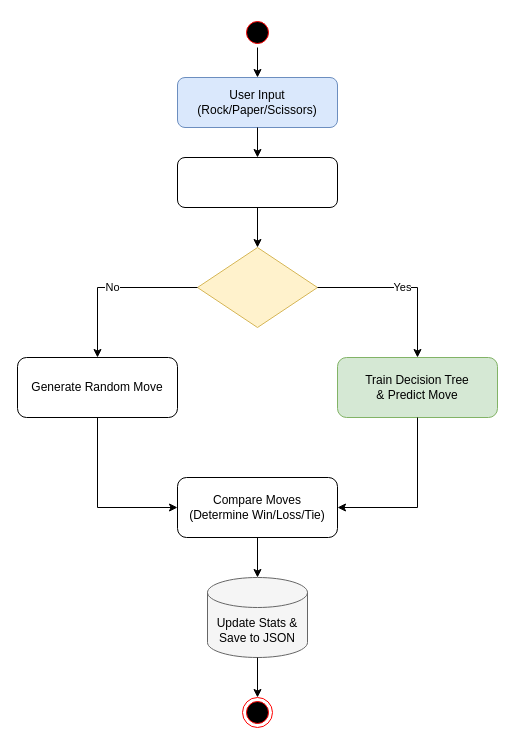
This 515x745 diagram has some shape labels left out. The centre of each missing label's shape, as x and y in pixels:
History > 5?: point (257, 287)
Load data.json: point (257, 182)
